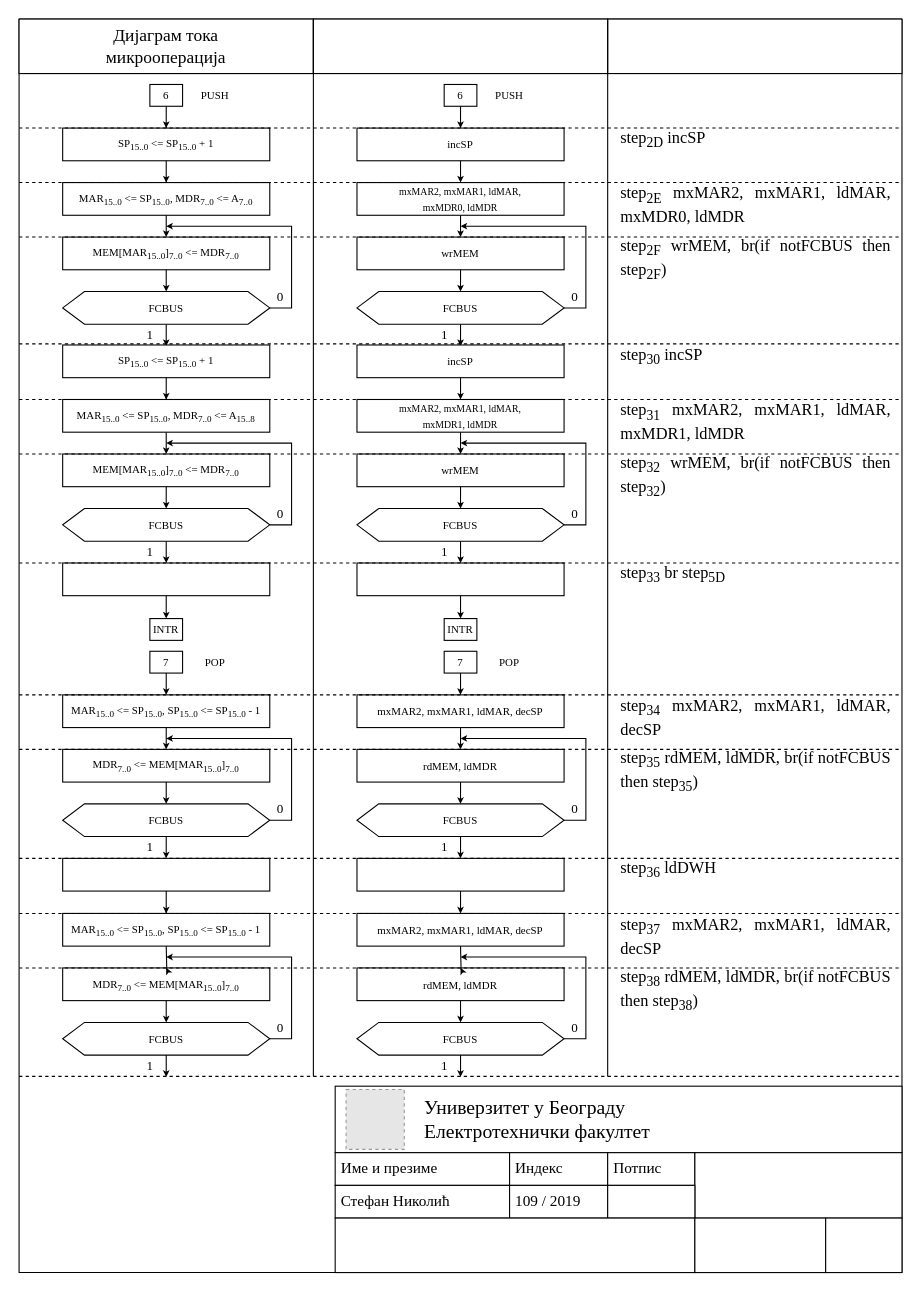
The diagram is 922 pixels wide and 1292 high, and some of its shapes have lost their labels. Grey dashed boxes stand in for pictures. The centre of each missing label's shape, as x and y in pixels:
"DWH 7..0 <= MDR 7..0" goes at pixel 166 874.
"ldDWH" goes at pixel 460 874.
"Датум 25.09.2021." goes at pixel 760 1245.
"Дијаграм тока управљачких сигнала" goes at pixel 460 46.
"Назив Основи рачунарске технике 2" goes at pixel 514 1245.
"Пројекат Задатак 209" goes at pixel 798 1185.
"Секвенца управљачких сигнала" goes at pixel 754 46.
"Страна 11" goes at pixel 863 1245.
